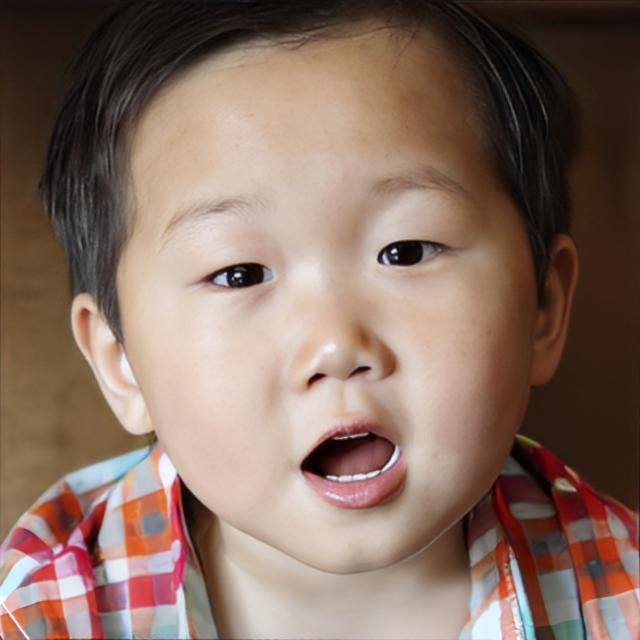surprise: (116, 18, 536, 578)
